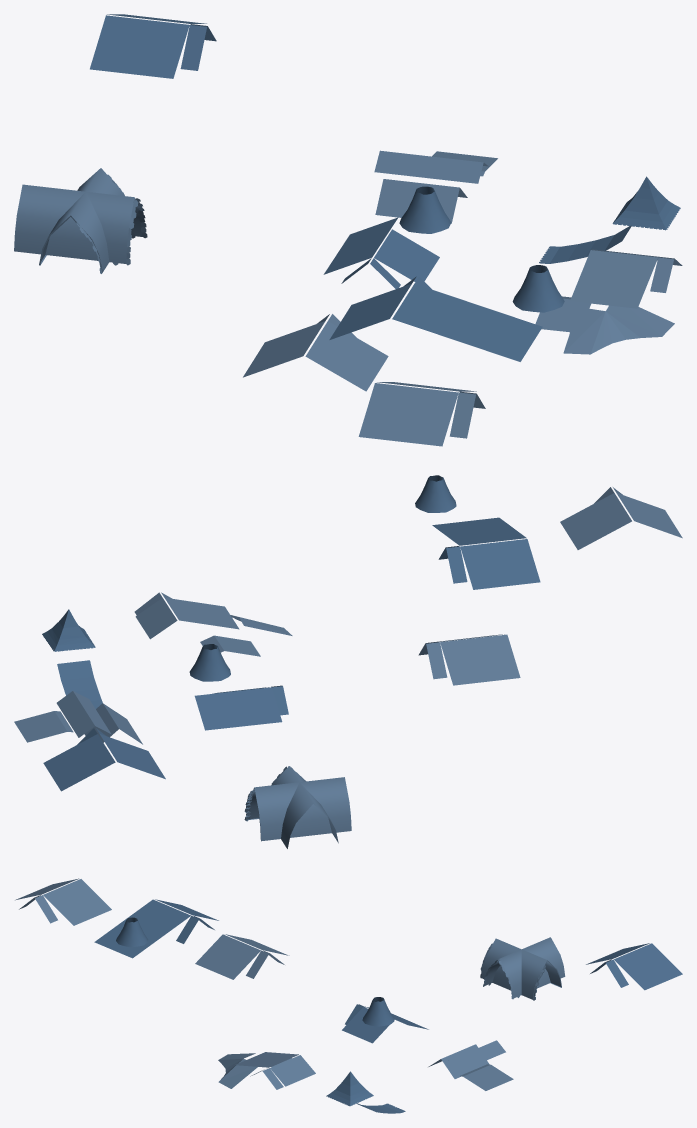
File: MSH_ENV_SquareArena_Roofs.FBX
3 renders of one model, top to bottom at view 1: azimuth 30°, elevation 25°; view 2: azimuth 150°, elevation 25°; view 3: azimuth 270°, elevation 25°, orthographic. The views are drawn at different scales.
Parts seen in each view (by area): view 1: ENV_SquareArena_Roofs; view 2: ENV_SquareArena_Roofs; view 3: ENV_SquareArena_Roofs.
Boxes of the visible parts, x1,y1,x2,y2 form: ENV_SquareArena_Roofs: (14, 14, 682, 446); ENV_SquareArena_Roofs: (14, 475, 682, 848); ENV_SquareArena_Roofs: (15, 878, 682, 1113).
Size of the model in its own units: 40.71 by 13.5 by 67.35.
